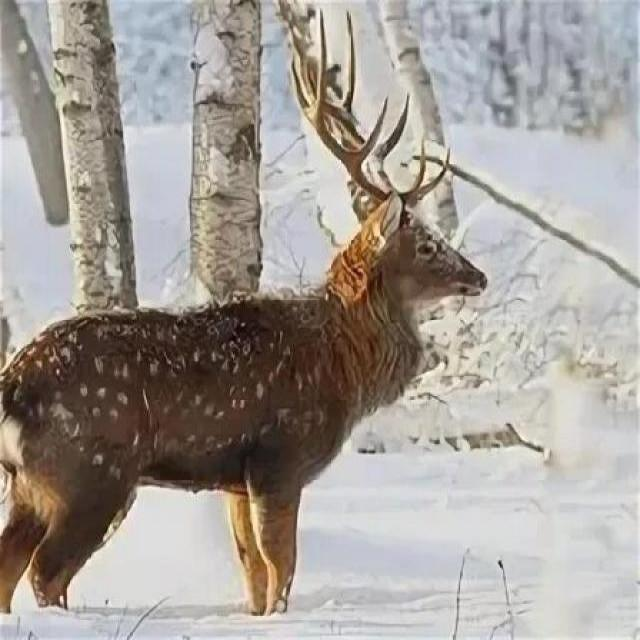deer: (0, 109, 491, 578)
